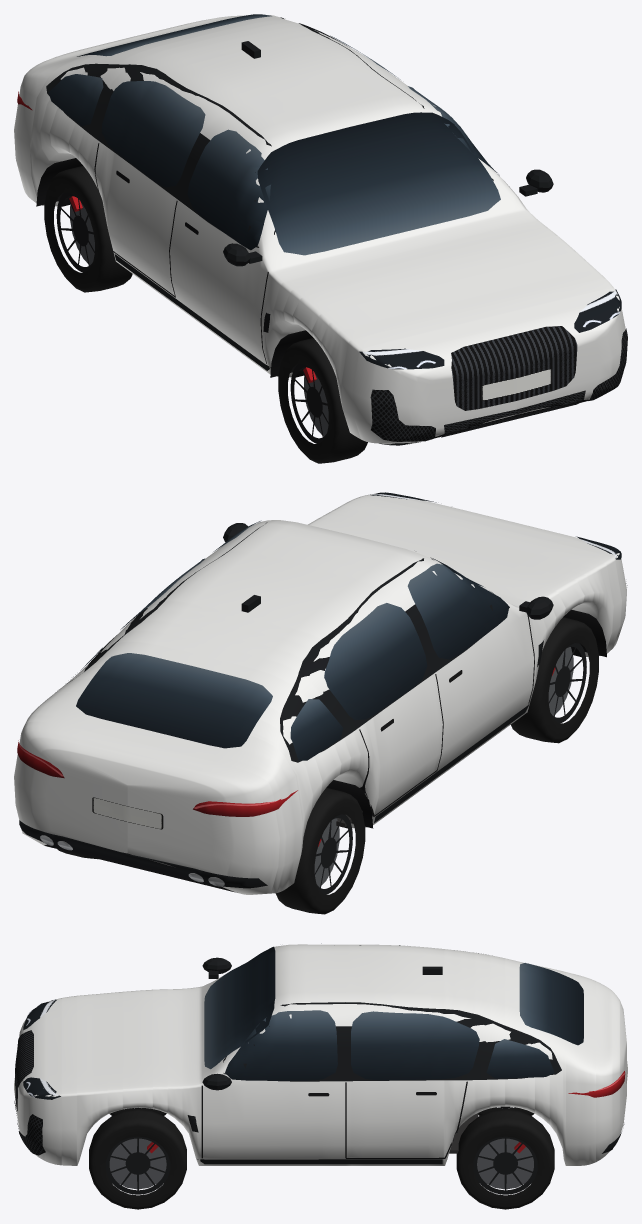
The model's file is gainde.glb.
3 renders of one model, top to bottom at view 1: azimuth 30°, elevation 25°; view 2: azimuth 150°, elevation 25°; view 3: azimuth 270°, elevation 25°, orthographic. The views are drawn at different scales.
Visible parts, largest first — view 1: body, wheel_rr, wheel_fr, door; view 2: body, wheel_rr, wheel_fr; view 3: body, door, wheel_rl, wheel_fl.
Boxes of the visible parts, x1,y1,x2,y2 form: body: [14, 14, 627, 445]; wheel_rr: [44, 166, 132, 292]; wheel_fr: [278, 338, 367, 463]; door: [381, 76, 525, 212]; body: [14, 492, 627, 894]; wheel_rr: [275, 787, 365, 914]; wheel_fr: [511, 617, 598, 743]; body: [14, 943, 627, 1165]; door: [202, 1002, 346, 1146]; wheel_rl: [456, 1109, 554, 1209]; wheel_fl: [89, 1109, 186, 1209].
Bounding box in the file's own units: 2.37 × 1.72 × 4.96.
2 materials, 1 textured.
